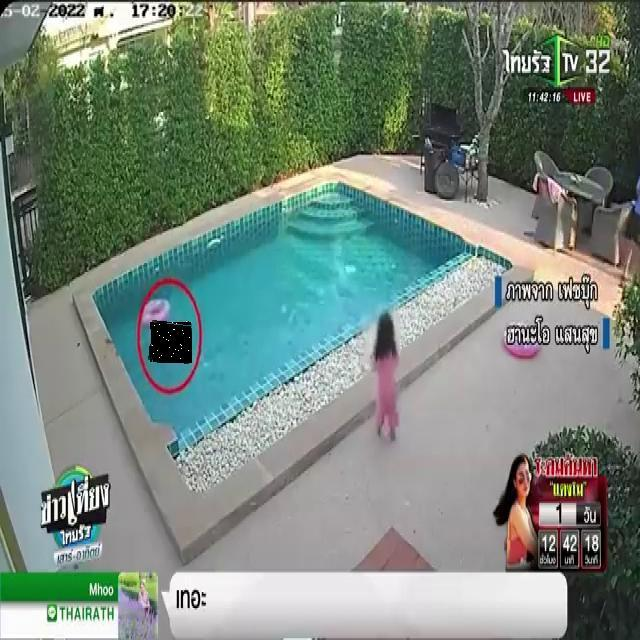Out of Water: (149, 321, 192, 363)
